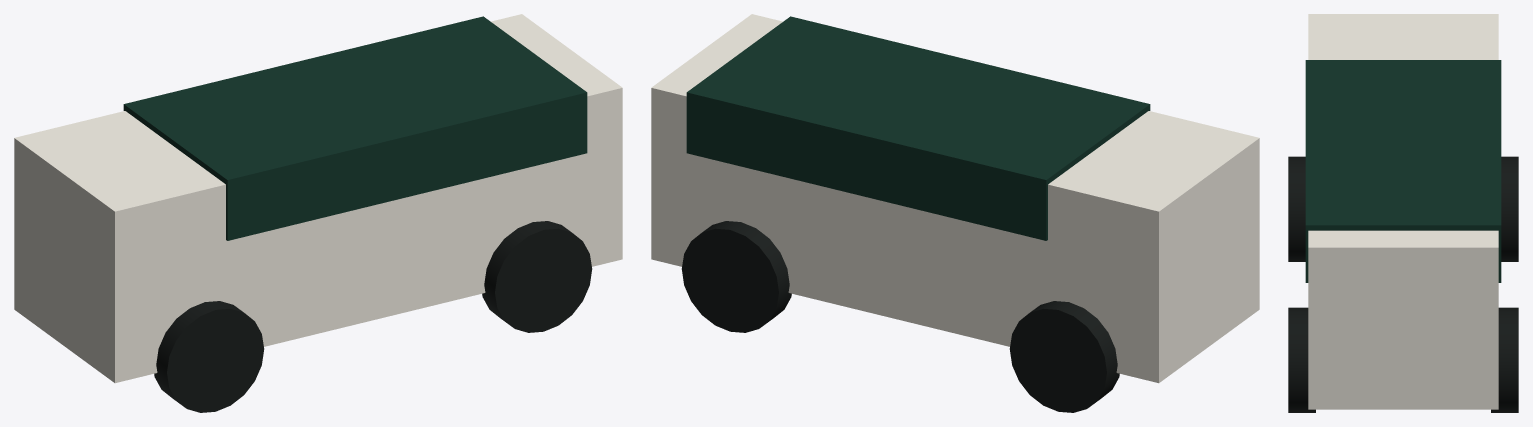
The model's file is paradiso.glb.
3 views of the same model, side by side, from view 1: azimuth 30°, elevation 25°; view 2: azimuth 150°, elevation 25°; view 3: azimuth 270°, elevation 25° (orthographic). The views are drawn at different scales.
Bounding box in the file's own units: 4.8 × 1.99 × 2.
